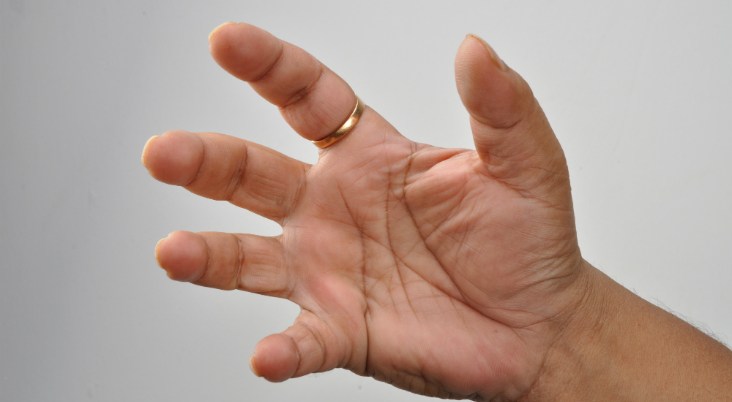finger: (203, 16, 391, 145), (121, 116, 330, 224), (148, 214, 299, 305), (243, 311, 370, 380)
